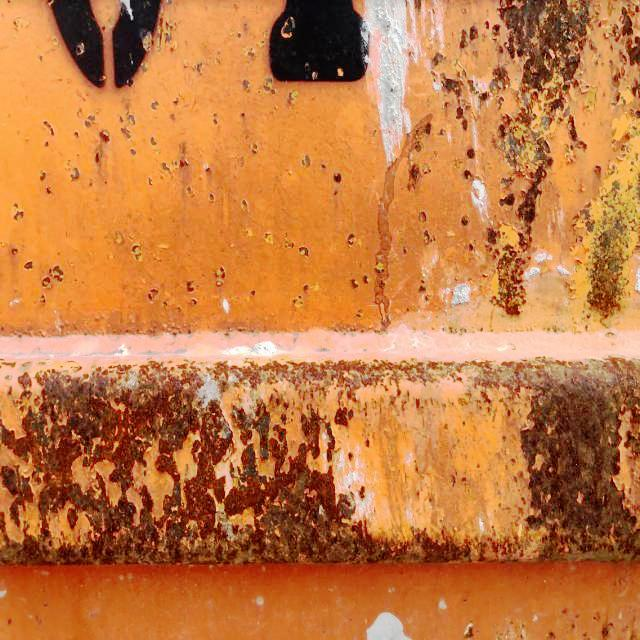Corrosion: (0, 352, 640, 570), (480, 0, 599, 318), (423, 9, 509, 186), (571, 105, 640, 318), (0, 109, 111, 230), (590, 0, 640, 125), (142, 278, 203, 306), (363, 250, 390, 304), (38, 265, 64, 304), (284, 233, 310, 262), (291, 280, 312, 308), (130, 242, 149, 264), (209, 266, 225, 290), (240, 65, 252, 92), (240, 46, 257, 64), (263, 75, 277, 94), (287, 89, 298, 104)
